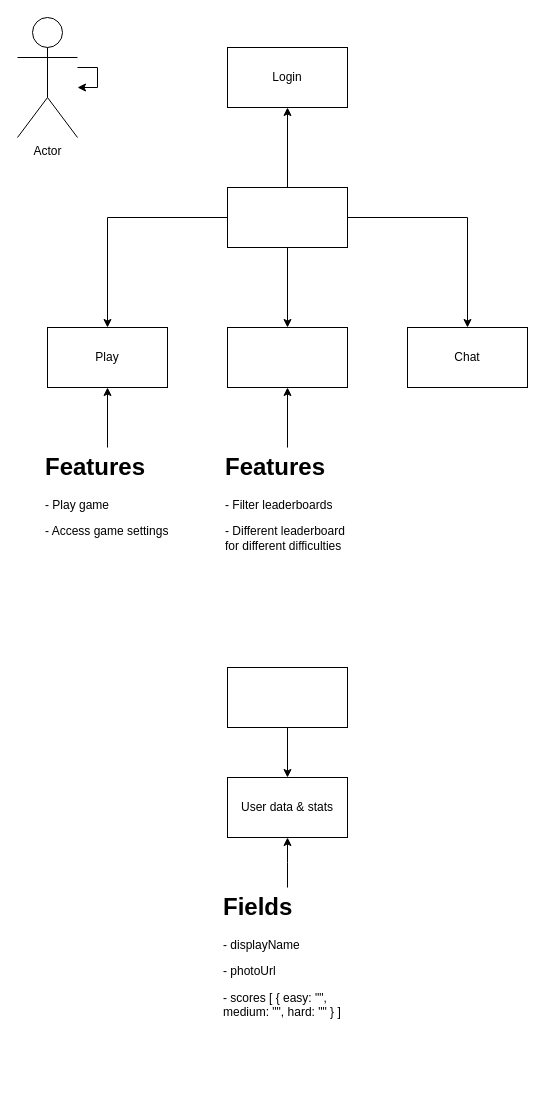
Image size: 545x1115. Some labels were removed from this diagram. The centre of each missing label's shape, as x and y in pixels:
"Database" belongs at [287,697].
"Landing page" belongs at [287,217].
"Leaderboard" belongs at [287,357].
